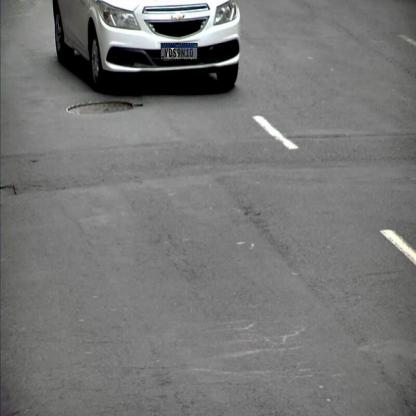PlacaM: (160, 43, 198, 60)
